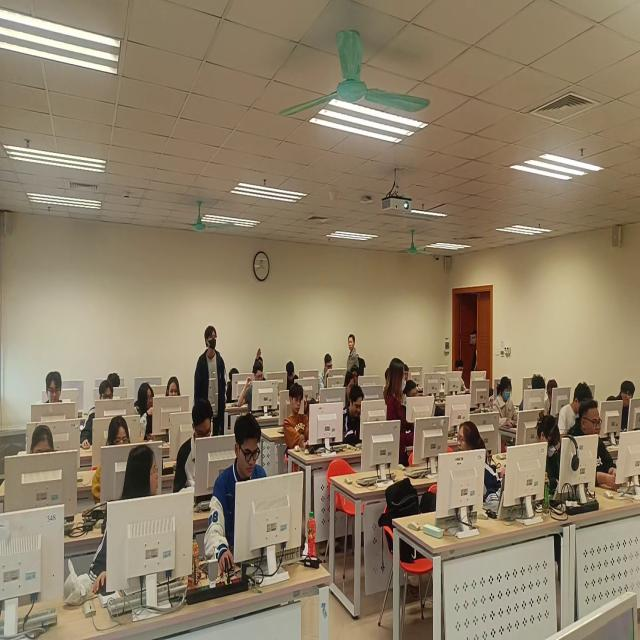raise_head: (564, 400, 618, 494), (618, 379, 637, 433), (406, 381, 423, 401)
stand: (193, 321, 229, 434), (383, 354, 412, 467), (345, 327, 366, 379)
using_computer: (205, 411, 265, 579), (173, 399, 214, 498), (92, 412, 134, 504), (535, 410, 564, 507), (80, 382, 117, 449), (559, 382, 595, 437), (285, 380, 312, 450), (240, 360, 268, 416), (343, 383, 365, 447), (520, 371, 545, 420), (495, 376, 517, 430), (29, 420, 59, 457), (45, 370, 67, 406), (318, 352, 334, 394), (455, 357, 471, 397), (165, 374, 187, 403), (284, 356, 298, 386), (107, 372, 123, 389)
